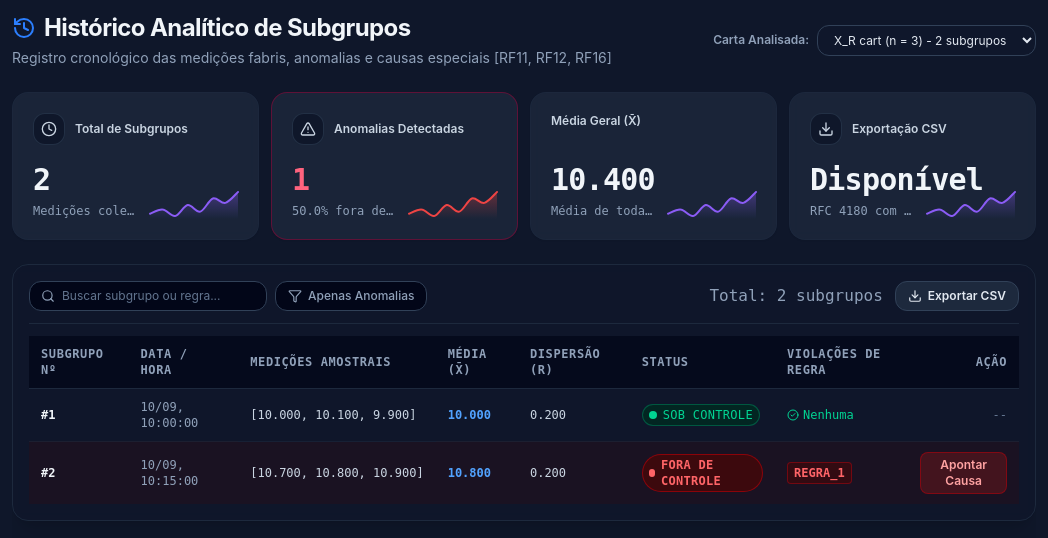
Test: HistoricoPage › deve filtrar subgrupos ao clicar no botão "Apenas Anomalias"
Expected: the row with test id "linha-subgrupo-1" is shown, [29,388,1019,441]
Expected: the row with test id "linha-subgrupo-2" is shown, [29,441,1019,504]
Click the button "Apenas Anomalias" at [351, 296], box [275,280,428,310]
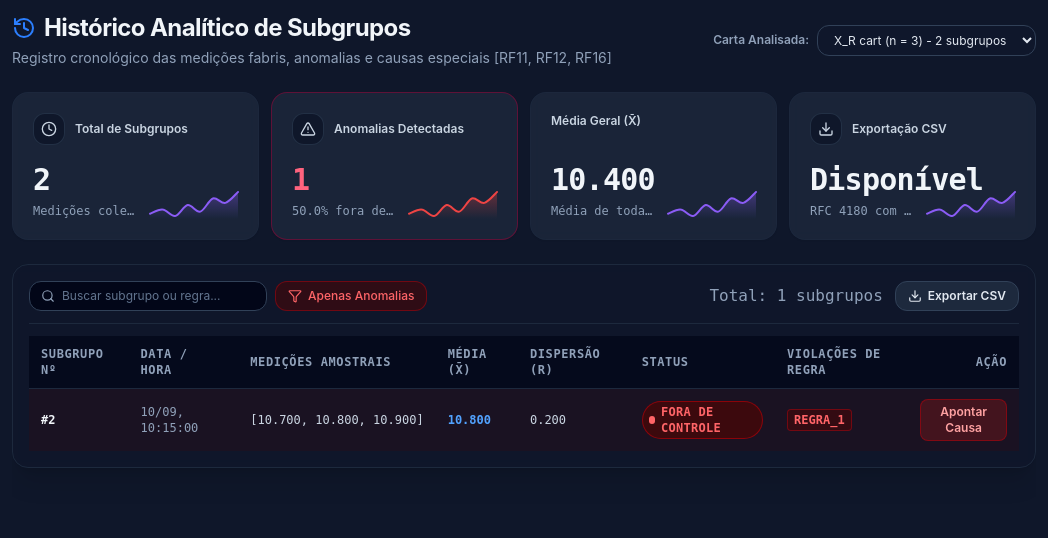
Expected: the row with test id "linha-subgrupo-2" is shown, [29,388,1019,450]
Expected: the row with test id "linha-subgrupo-1" is gone
